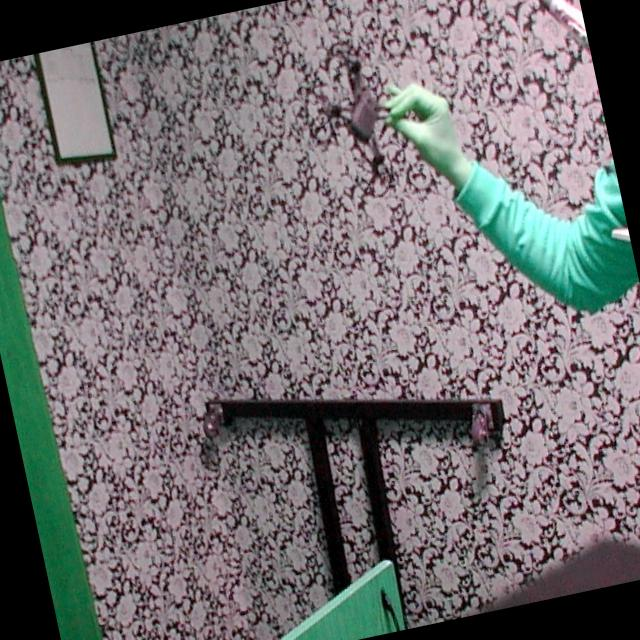drone: (274, 16, 440, 206)
